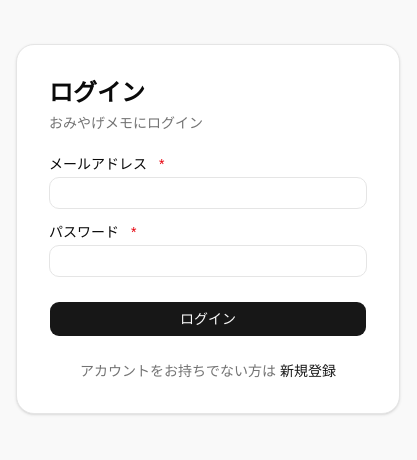
Test case: LoginPage › ログイン失敗時にエラーメッセージが表示される
Type "test@example.com" into the field labelled "メールアドレス *" at (208, 193), box [49, 177, 367, 209]
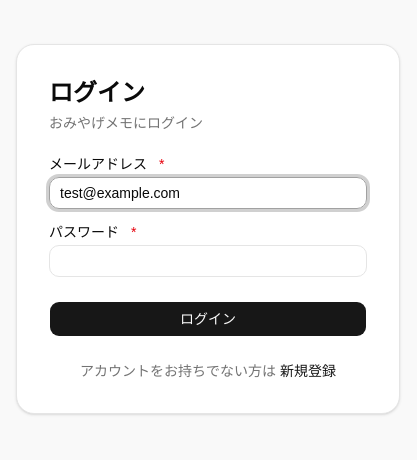
Type "wrongpassword" into the password field labelled "パスワード *" at (208, 261), box [49, 245, 367, 277]
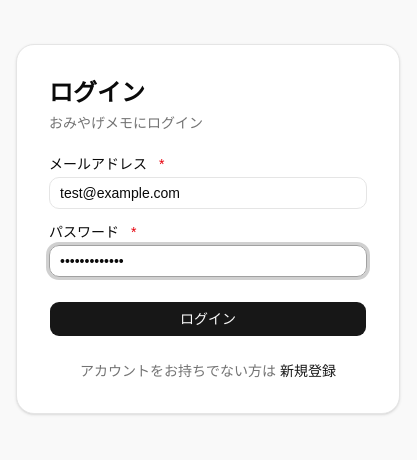
Click the button "ログイン" at (208, 319), box [49, 301, 367, 337]
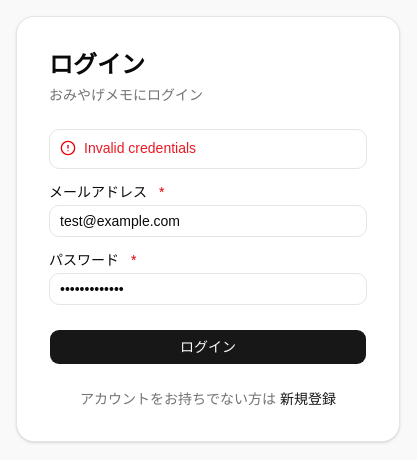
Expected: the message reads "Invalid credentials", [84, 140, 196, 156]
